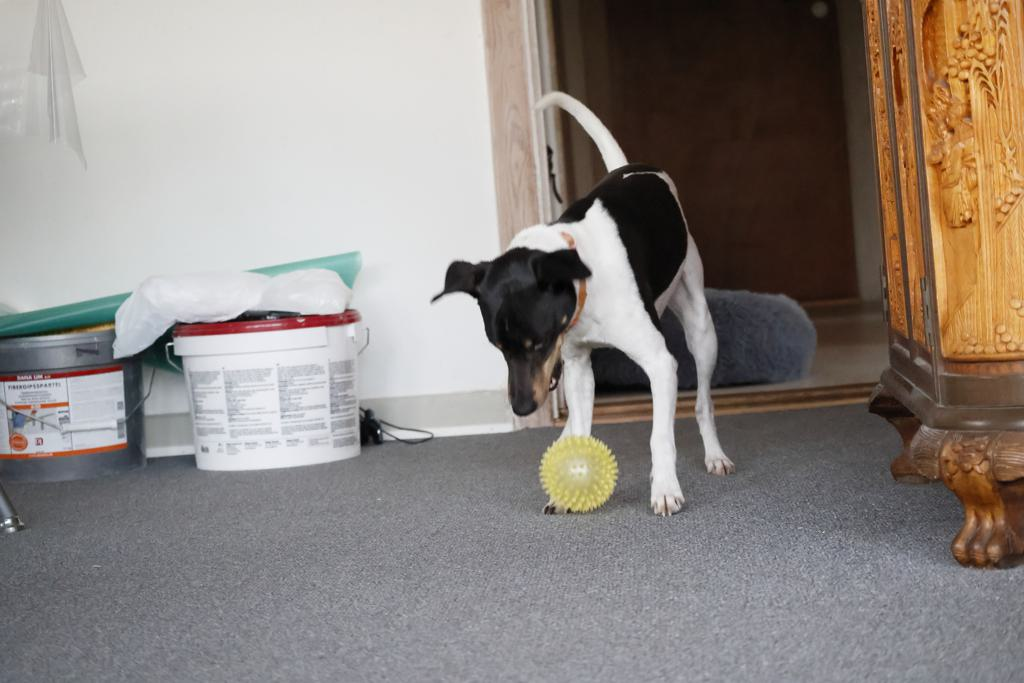Dog: (409, 77, 752, 530)
